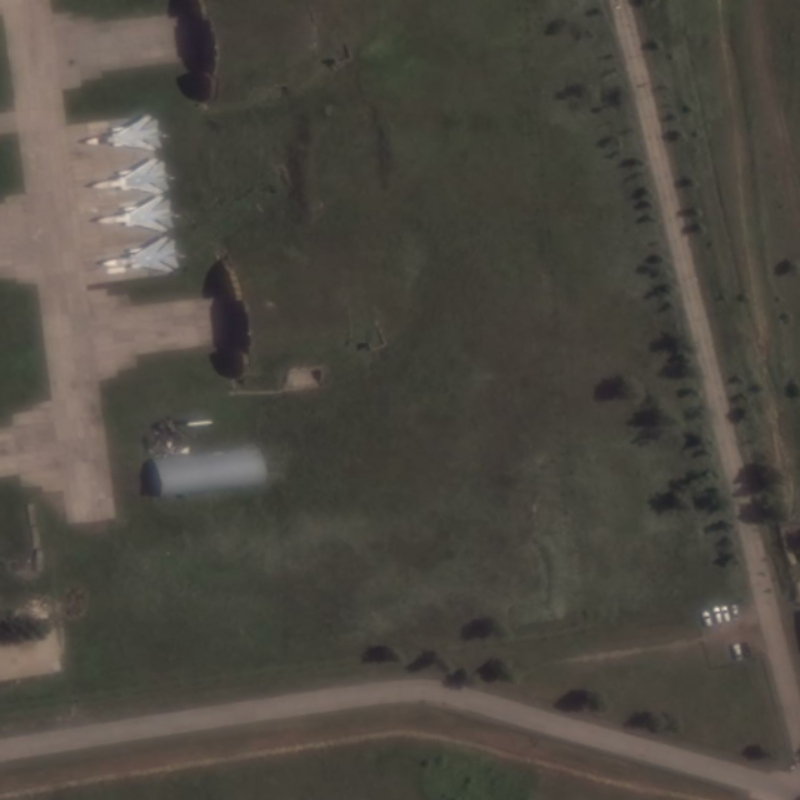A20: (90, 156, 172, 196), (100, 235, 182, 275), (84, 113, 164, 153), (96, 195, 177, 234)
